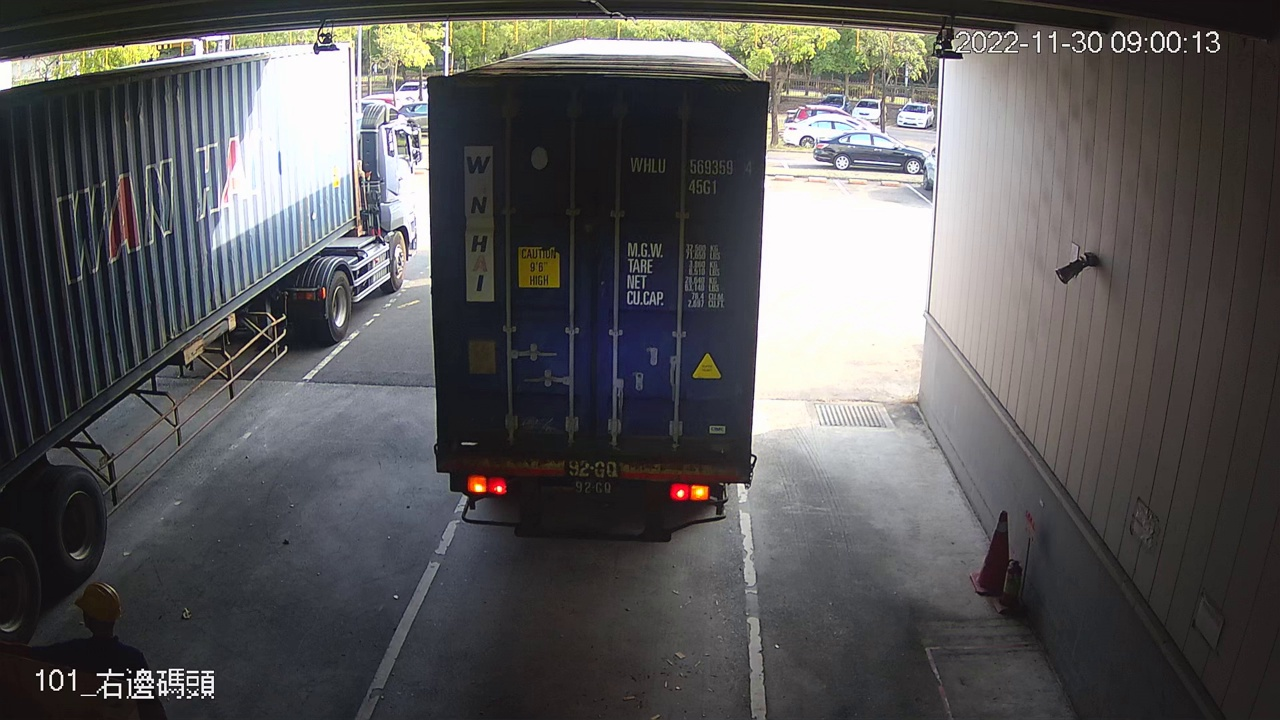container: (622, 151, 759, 200)
